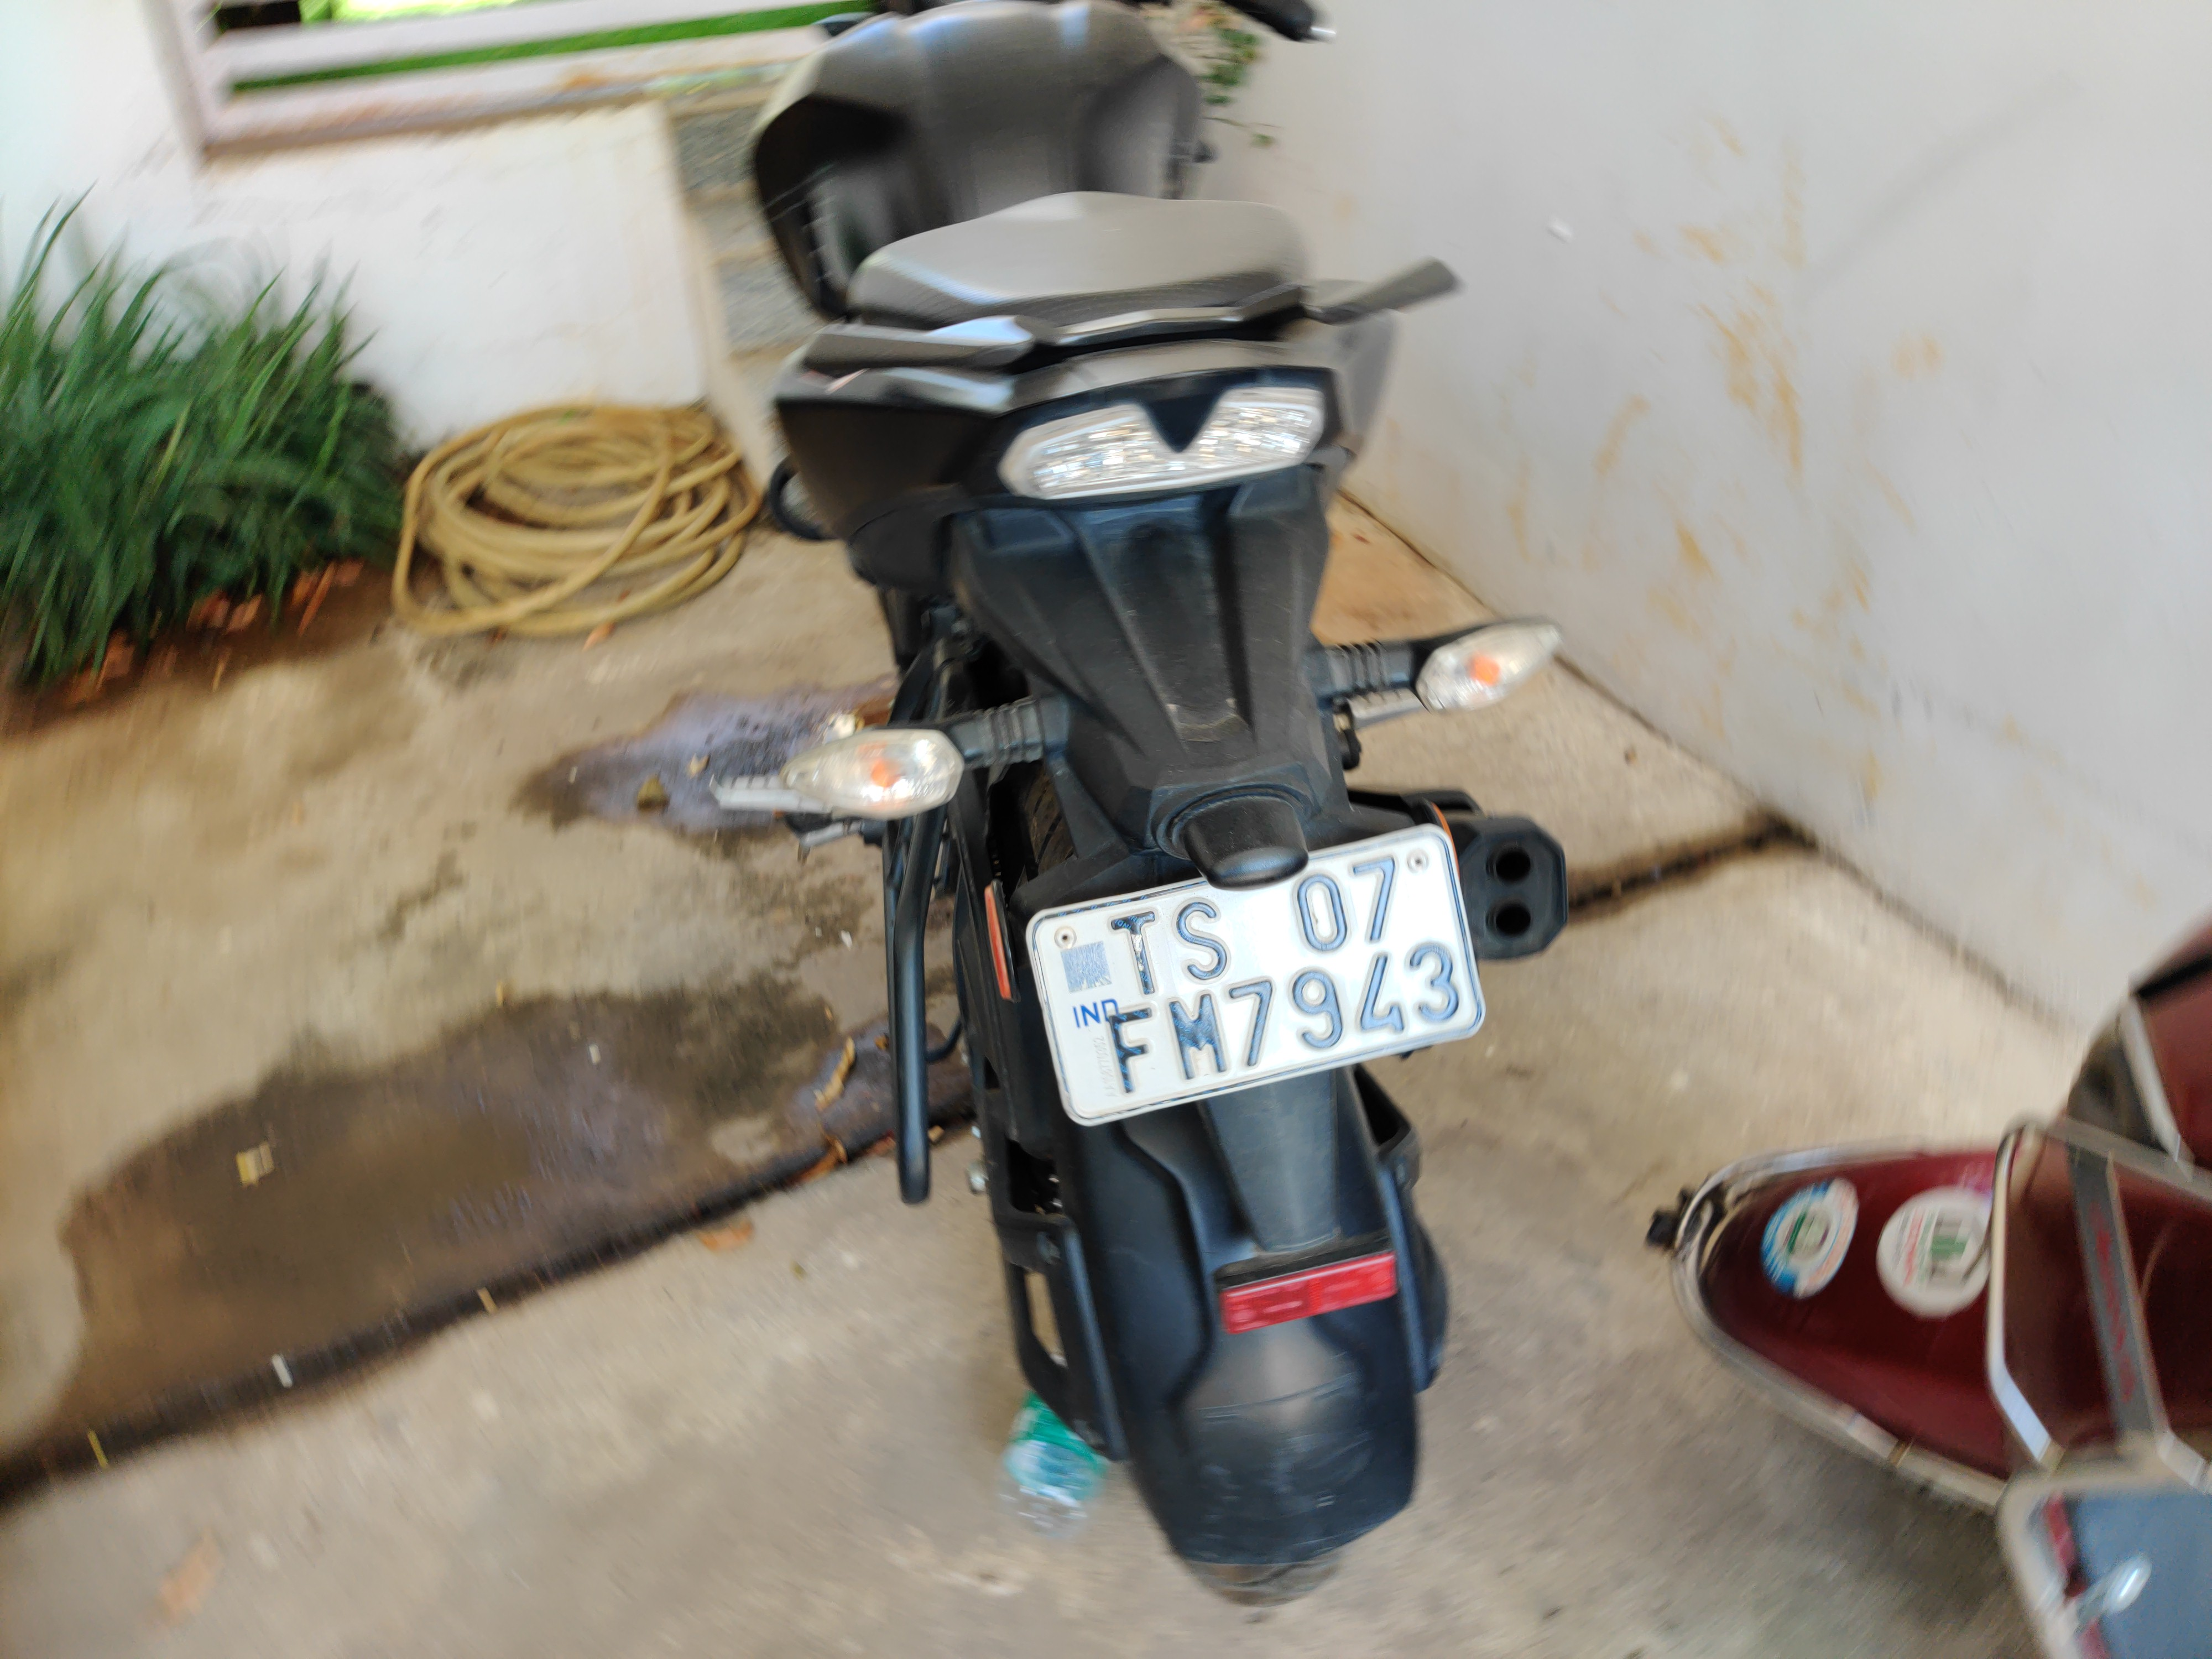plate: (1005, 817, 1498, 1159)
